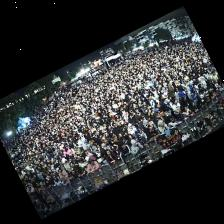person: (119, 144, 131, 168), (90, 142, 106, 159), (172, 100, 183, 120), (146, 125, 159, 141), (72, 165, 87, 178), (106, 150, 118, 166), (154, 109, 164, 128), (165, 116, 180, 128), (87, 159, 99, 173), (131, 140, 143, 154), (108, 139, 118, 154), (182, 107, 195, 118), (158, 120, 169, 133), (100, 136, 110, 150), (136, 134, 147, 146), (135, 109, 146, 121), (163, 99, 171, 115), (159, 95, 166, 113), (128, 115, 138, 127), (63, 160, 73, 171), (63, 147, 73, 158), (136, 129, 147, 139), (117, 133, 127, 144), (127, 134, 136, 146), (144, 120, 153, 132), (192, 88, 198, 106), (128, 124, 136, 137), (188, 101, 198, 111), (73, 153, 83, 163), (79, 158, 88, 169), (179, 86, 187, 98), (57, 168, 69, 176), (45, 179, 55, 188), (53, 176, 62, 186), (112, 123, 120, 134), (61, 176, 70, 185), (72, 146, 81, 155), (168, 84, 174, 97), (197, 97, 204, 108), (98, 158, 106, 167), (120, 127, 129, 135), (84, 151, 91, 161), (139, 117, 144, 130), (203, 95, 210, 104), (214, 86, 221, 95), (187, 87, 192, 99), (123, 111, 128, 122), (41, 182, 46, 192), (70, 162, 79, 167), (50, 172, 58, 176), (90, 155, 96, 160), (218, 85, 223, 90)
